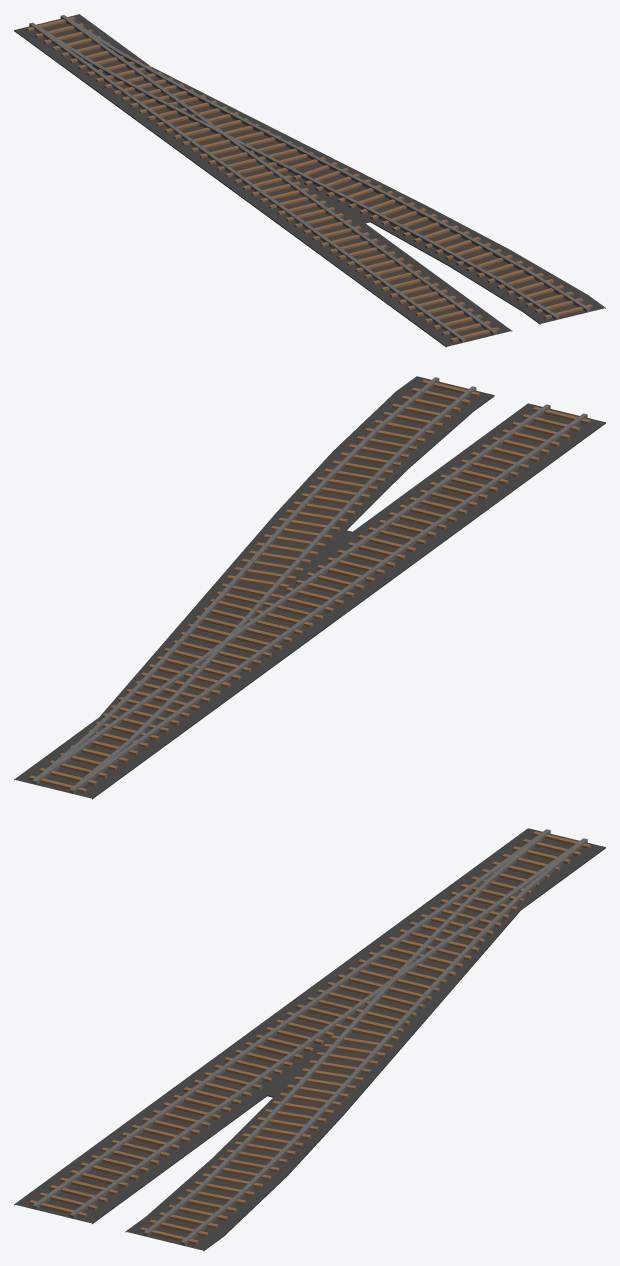
The model's file is SM_Floor_Railway_03.fbx.
3 renders of one model, top to bottom at view 1: azimuth 30°, elevation 25°; view 2: azimuth 150°, elevation 25°; view 3: azimuth 330°, elevation 25°, orthographic. The views are drawn at different scales.
Visible parts, largest first — view 1: SM_Floor_Railway_03; view 2: SM_Floor_Railway_03; view 3: SM_Floor_Railway_03.
Part boxes in pixels (x1,y1,x2,y2): SM_Floor_Railway_03: (14, 14, 605, 347); SM_Floor_Railway_03: (14, 376, 605, 799); SM_Floor_Railway_03: (14, 828, 605, 1251).
Bounding box in the file's own units: 8.5 × 0.2 × 40.
